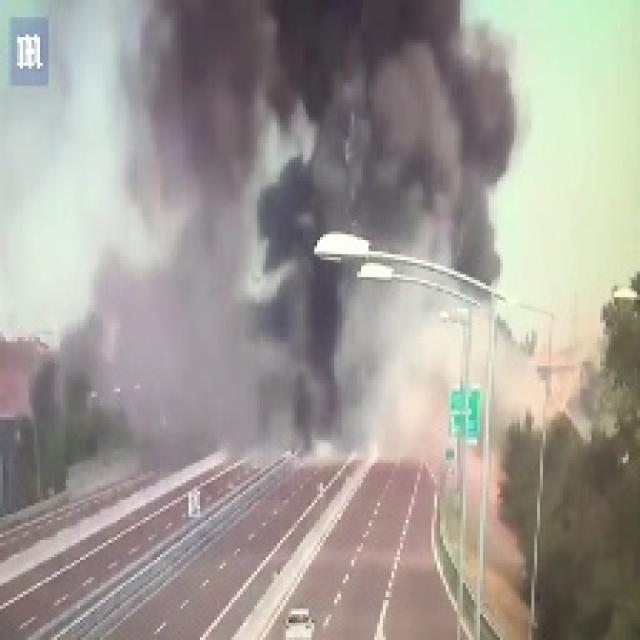Smoke: (103, 0, 584, 520)
